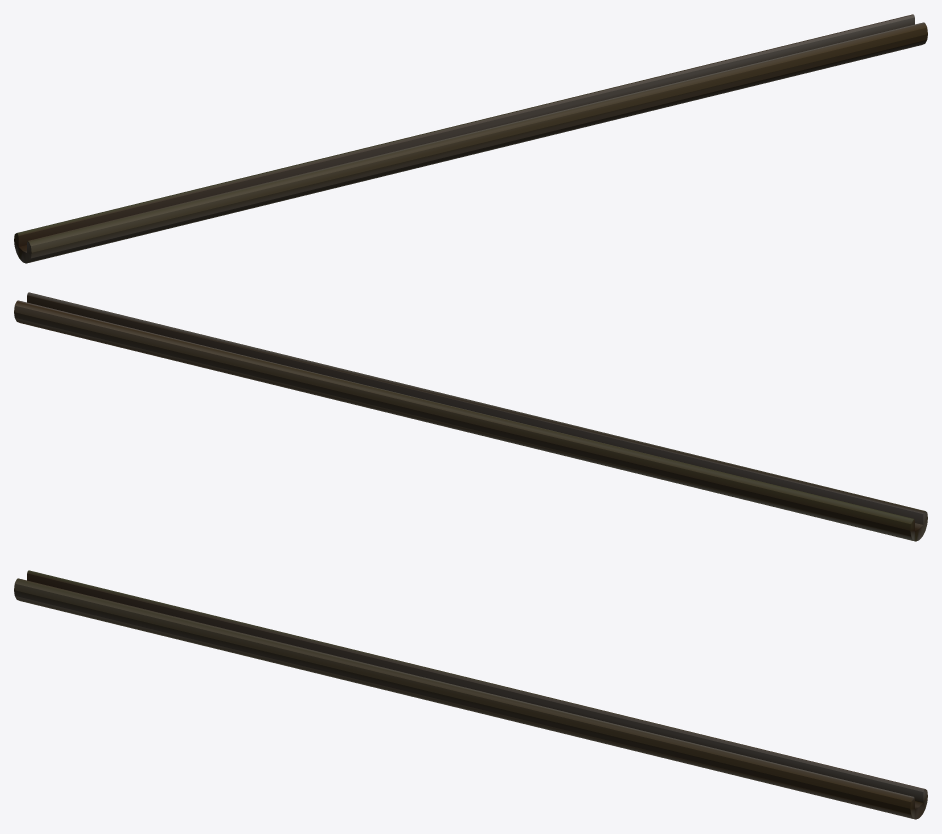
The model's file is gutter_wood_b931d4f9.glb.
The picture shows the model from 3 angles, top to bottom: view 1: azimuth 30°, elevation 25°; view 2: azimuth 150°, elevation 25°; view 3: azimuth 330°, elevation 25°; orthographic projection.
Visible parts, largest first — view 1: Cylinder_SM_Gutter_Wood_0; view 2: Cylinder_SM_Gutter_Wood_0; view 3: Cylinder_SM_Gutter_Wood_0.
Part boxes in pixels (bbox=[...]): Cylinder_SM_Gutter_Wood_0: bbox=[14, 14, 927, 263]; Cylinder_SM_Gutter_Wood_0: bbox=[14, 292, 927, 541]; Cylinder_SM_Gutter_Wood_0: bbox=[14, 570, 927, 819].
Size of the model in its own units: 5 by 0.1337 by 0.1703.
